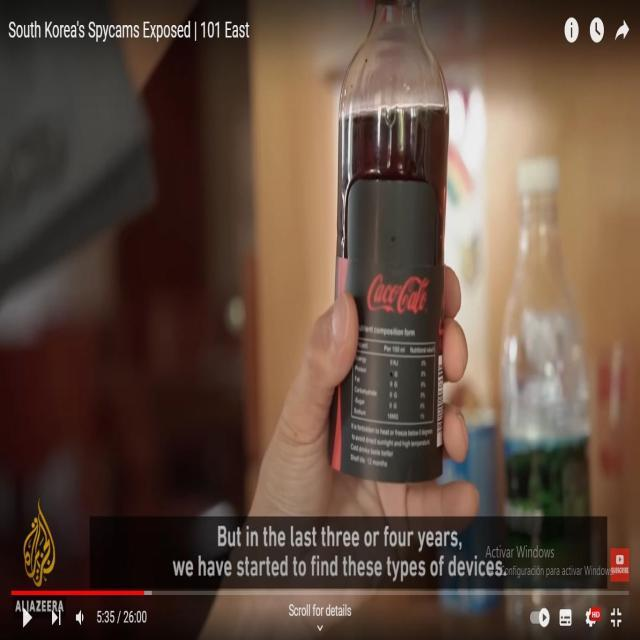hidden camera: (385, 225, 401, 252)
